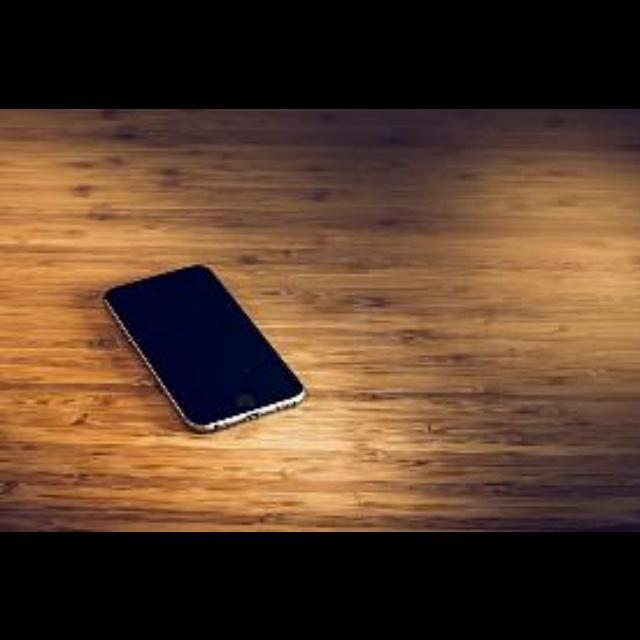Phone: (104, 266, 306, 434)
